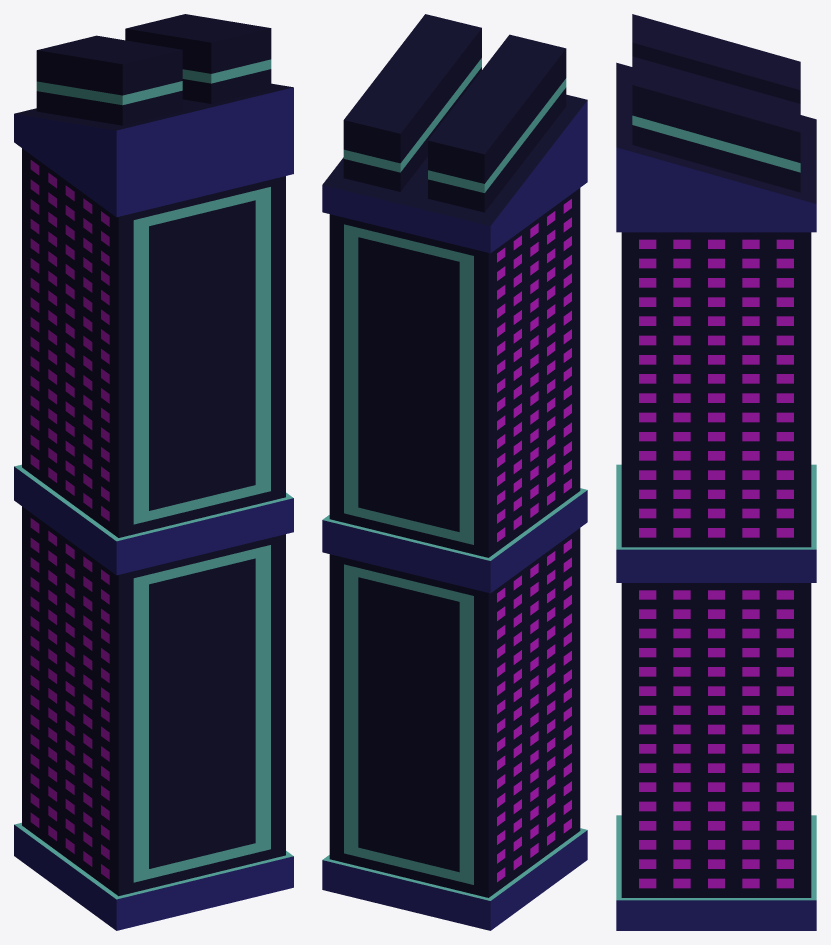
Rendered from testBuilding.fbx.
3 views of the same model, side by side, from view 1: azimuth 30°, elevation 25°; view 2: azimuth 150°, elevation 25°; view 3: azimuth 270°, elevation 25° (orthographic). The views are drawn at different scales.
Visible parts, largest first — view 1: building_08.005; view 2: building_08.005; view 3: building_08.005.
Boxes of the visible parts, left/top/right/bottom form: building_08.005: left=14, top=14, right=293, bottom=930; building_08.005: left=322, top=14, right=587, bottom=930; building_08.005: left=616, top=14, right=816, bottom=930.
Size of the model in its own units: 4 by 18.47 by 4.
